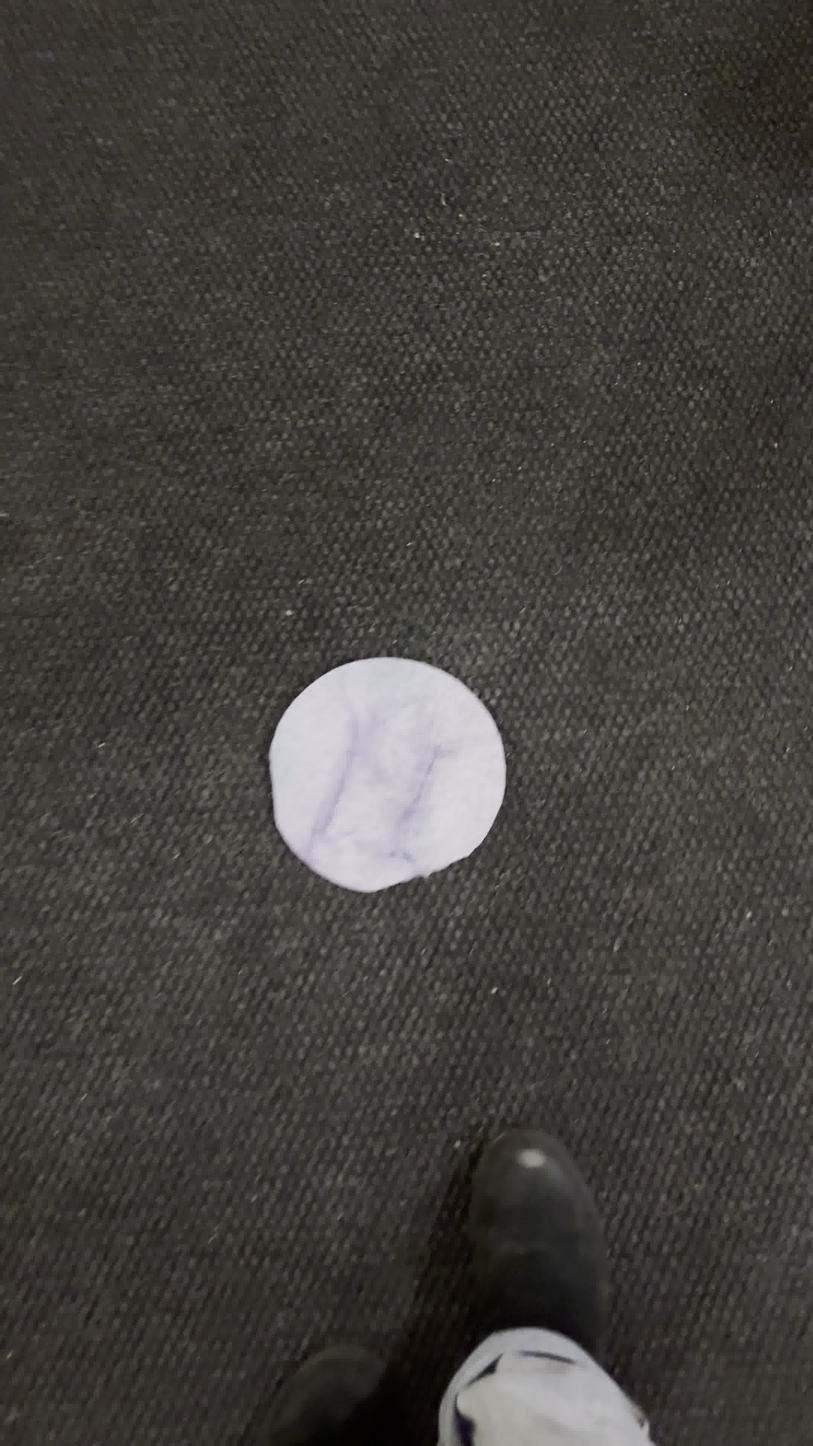Target: (266, 658, 502, 890)
